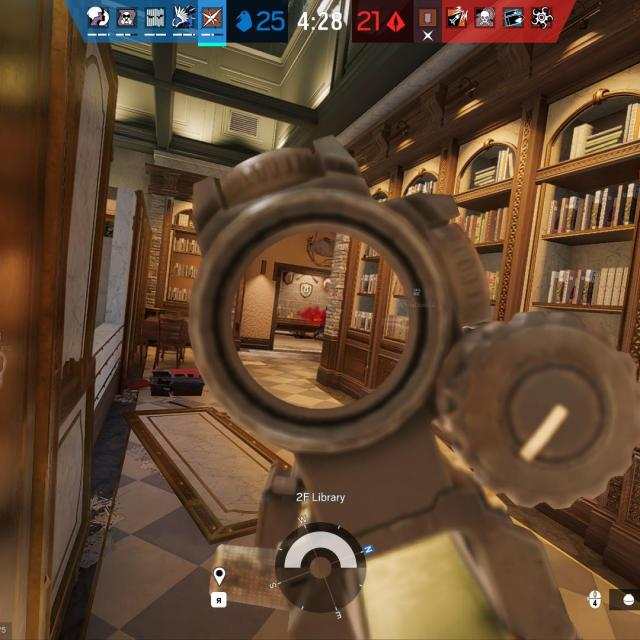Character: (312, 305, 329, 340)
Friend_label: (396, 285, 438, 311), (0, 336, 12, 352)
